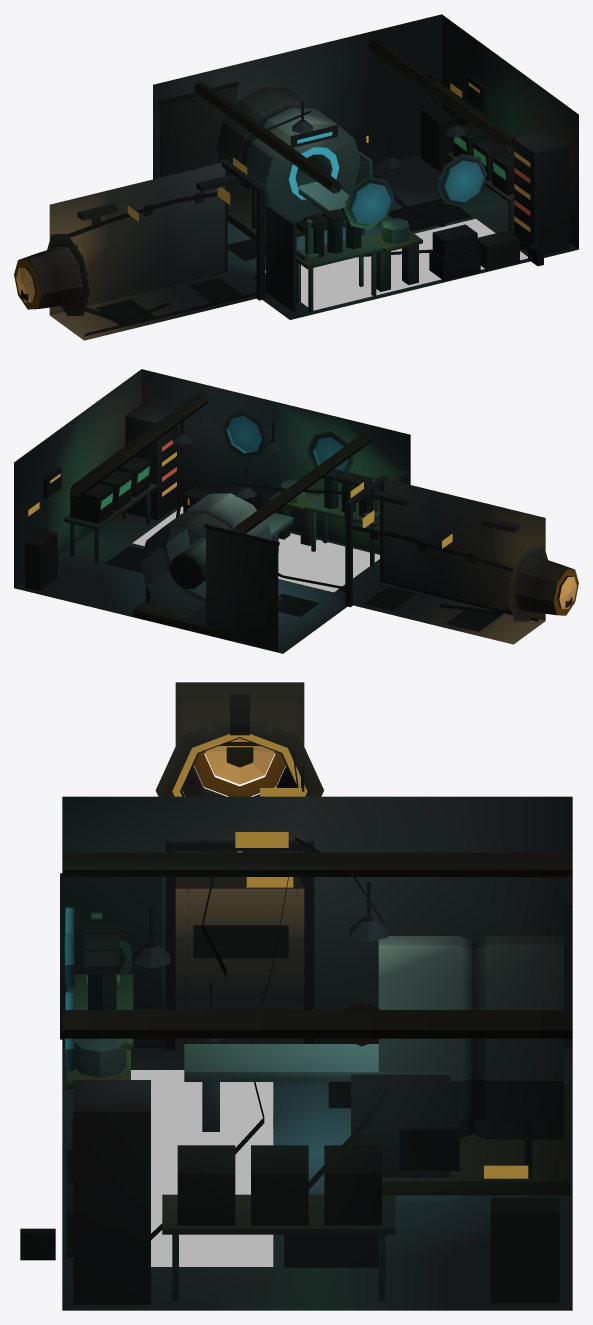
File: dank_lab.obj
3 renders of one model, top to bottom at view 1: azimuth 30°, elevation 25°; view 2: azimuth 150°, elevation 25°; view 3: azimuth 270°, elevation 25°, orthographic. The views are drawn at different scales.
Parts seen in each view (by area): view 1: dank_lab; view 2: dank_lab; view 3: dank_lab.
Part boxes in pixels (bbox=[...]): dank_lab: bbox=[14, 14, 578, 340]; dank_lab: bbox=[14, 369, 578, 653]; dank_lab: bbox=[20, 682, 572, 1310].
Bounding box in the file's own units: 984 × 250 × 498.
